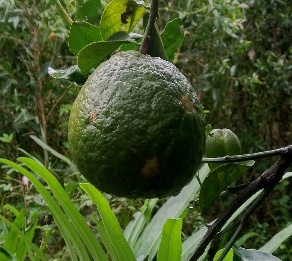Cam: (64, 47, 208, 201)
